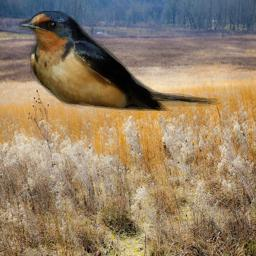Swallow: (19, 11, 220, 111)
